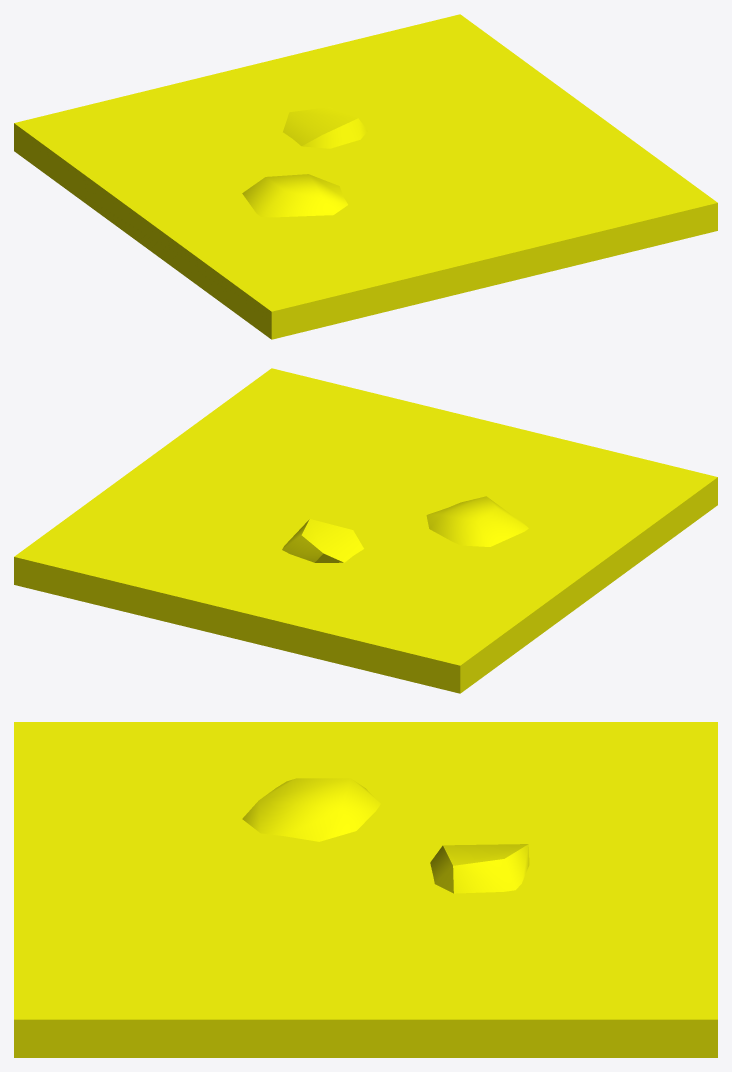
File: kaykit-floor-dirt-small-b.glb
3 renders of one model, top to bottom at view 1: azimuth 30°, elevation 25°; view 2: azimuth 150°, elevation 25°; view 3: azimuth 270°, elevation 25°, orthographic. The views are drawn at different scales.
Parts seen in each view (by area): view 1: floor_dirt_small_B; view 2: floor_dirt_small_B; view 3: floor_dirt_small_B.
Part boxes in pixels (<box>): floor_dirt_small_B: <box>14,14,717,339</box>; floor_dirt_small_B: <box>14,368,717,693</box>; floor_dirt_small_B: <box>14,722,717,1057</box>.
Size of the model in its own units: 2 by 0.1887 by 2.
